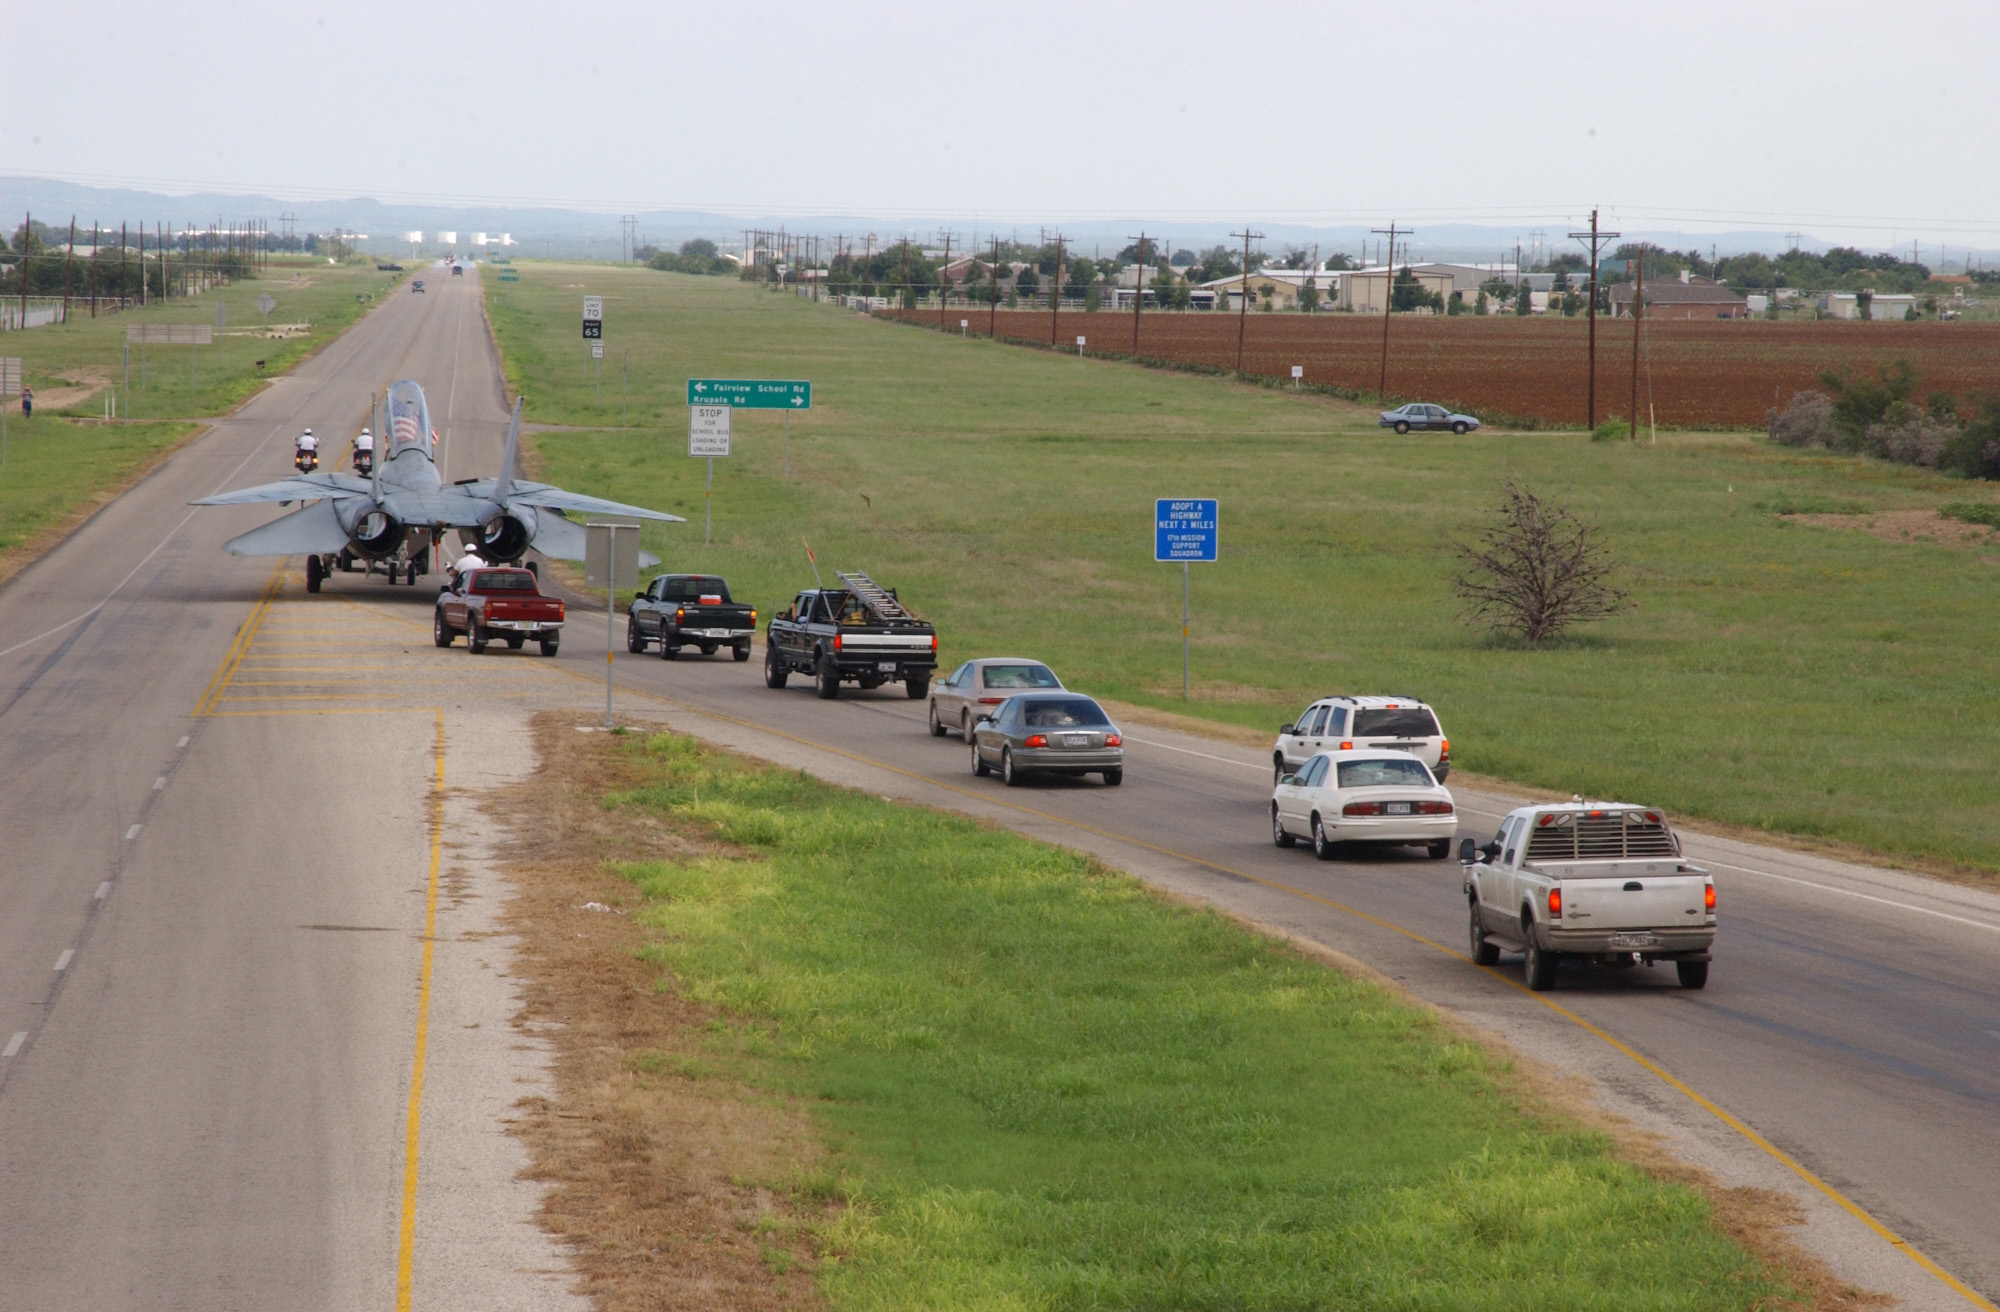F14: (184, 379, 688, 594)
